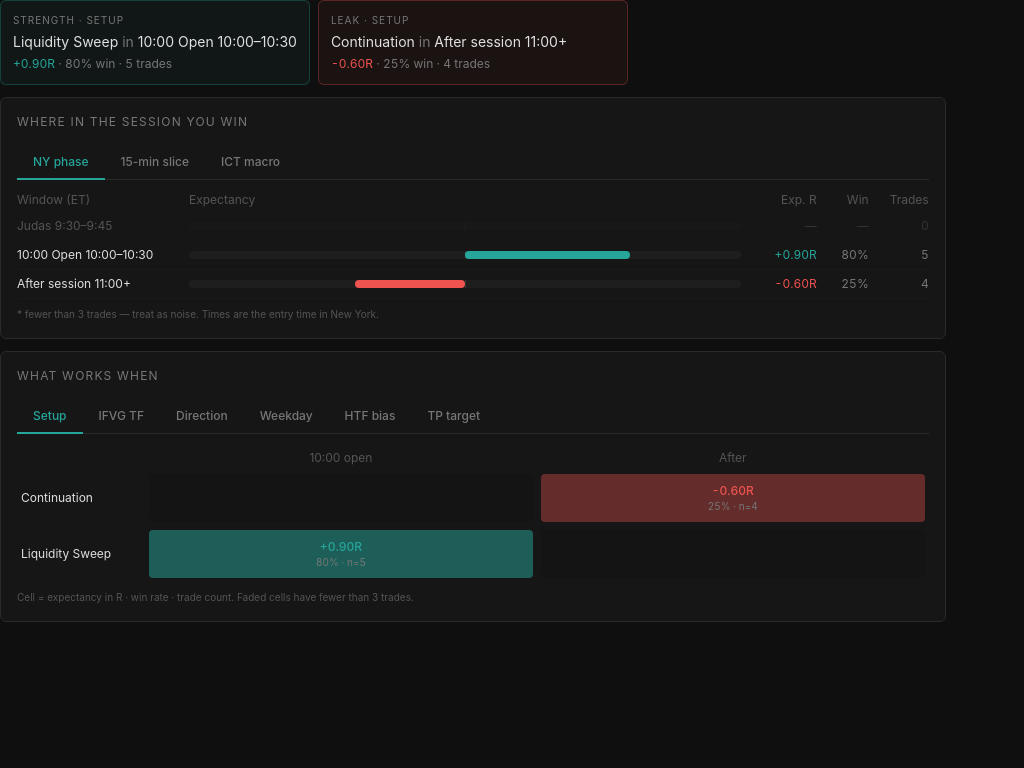
Test: TimeEdgeSection › switches the phase bars to the ICT macro view
Click the button "ICT macro" at (251, 163), box [205,146,296,180]
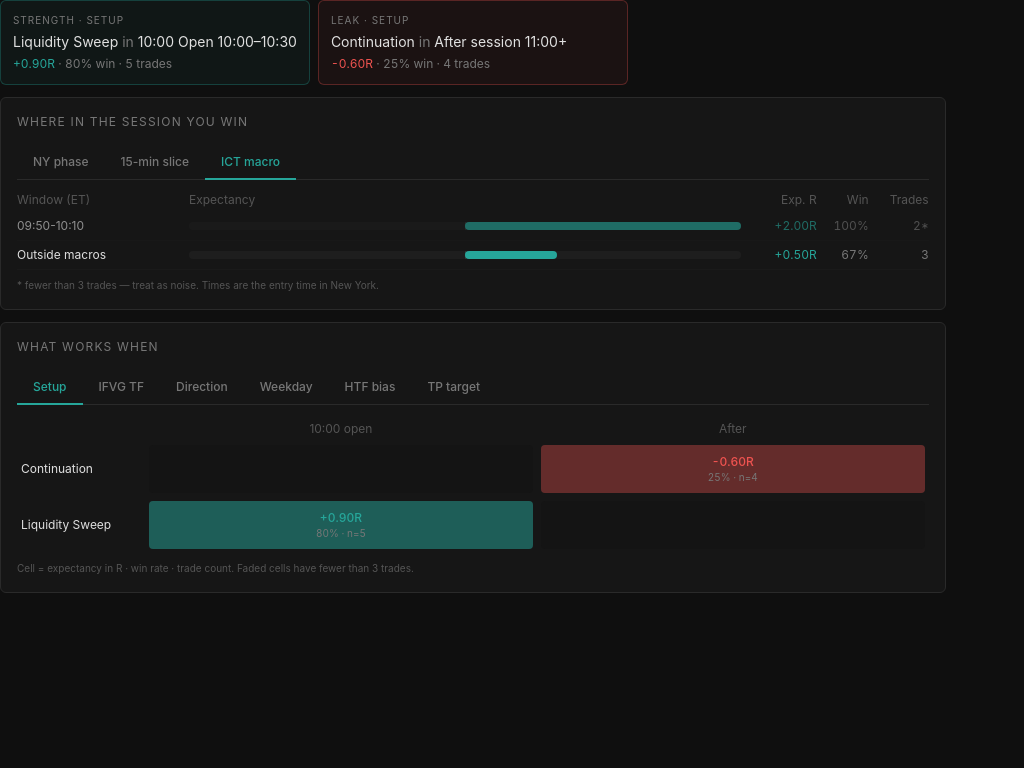
Now the text "09:50-10:10" is shown, box [17,218,84,233]
Now the text "Outside macros" is shown, box [17,247,106,262]
